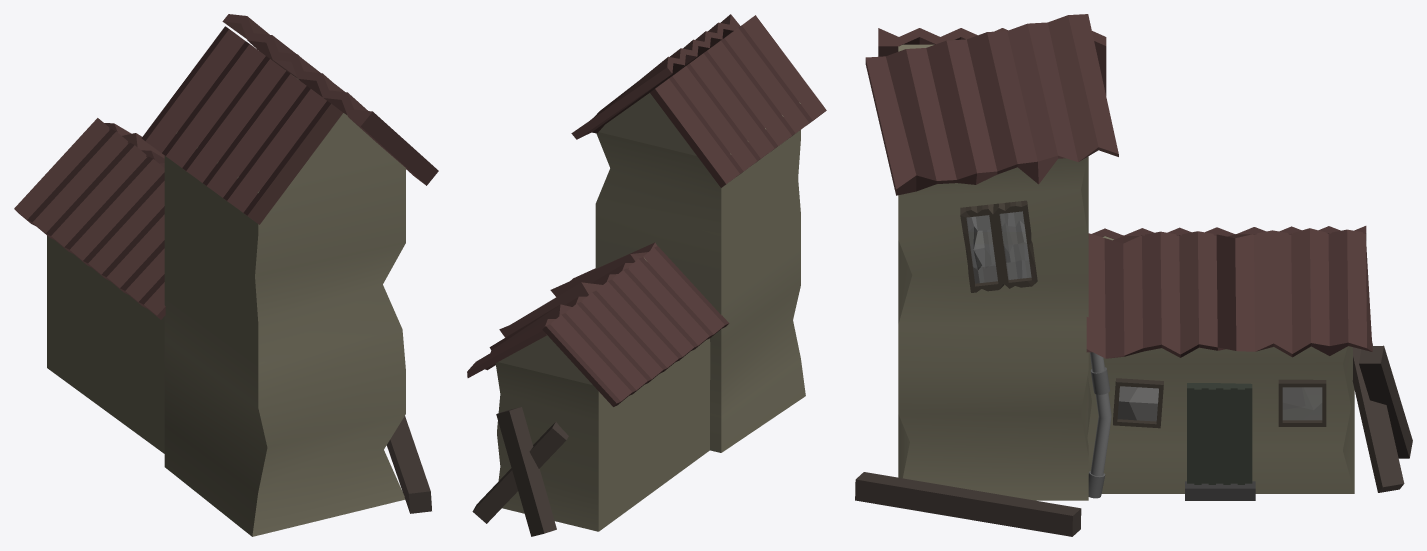
The model's file is HOUSE 1 DAMAGED red roof.fbx.
3 renders of one model, left to right at view 1: azimuth 30°, elevation 25°; view 2: azimuth 150°, elevation 25°; view 3: azimuth 270°, elevation 25°, orthographic. The views are drawn at different scales.
Visible parts, largest first — view 1: pCube1, pCube4, pCube6, pCube2, pCube3, pCube11, pCube5; view 2: pCube1, pCube2, pCube4, pCube6, pCube14, pCube5, pCube3; view 3: pCube1, pCube5, pCube3, pCube2, pCube11, pCube7, pCube10, pCube14, pCube8, pCube9, pCube4, pCylinder1 (+2 smaller).
Boxes of the visible parts, left/top/right/bottom form: pCube1: left=164, top=78, right=405, bottom=536; pCube4: left=141, top=26, right=342, bottom=224; pCube6: left=14, top=118, right=165, bottom=319; pCube2: left=47, top=235, right=164, bottom=453; pCube3: left=222, top=14, right=438, bottom=185; pCube11: left=386, top=416, right=431, bottom=513; pCube5: left=104, top=123, right=164, bottom=167; pCube1: left=595, top=93, right=805, bottom=452; pCube2: left=495, top=258, right=710, bottom=531; pCube4: left=650, top=15, right=826, bottom=187; pCube6: left=542, top=246, right=729, bottom=406; pCube14: left=472, top=406, right=568, bottom=536; pCube5: left=467, top=242, right=657, bottom=377; pCube3: left=571, top=14, right=740, bottom=139; pCube1: left=898, top=44, right=1088, bottom=500; pCube5: left=1086, top=228, right=1372, bottom=358; pCube3: left=865, top=14, right=1118, bottom=195; pCube2: left=1087, top=236, right=1354, bottom=493; pCube11: left=855, top=472, right=1081, bottom=536; pCube7: left=1187, top=383, right=1252, bottom=484; pCube10: left=960, top=200, right=1037, bottom=292; pCube14: left=1352, top=341, right=1412, bottom=492; pCube8: left=1113, top=378, right=1163, bottom=428; pCube9: left=1278, top=379, right=1326, bottom=426; pCube4: left=878, top=28, right=1106, bottom=95; pCylinder1: left=1089, top=352, right=1111, bottom=476.
Bounding box in the file's own units: 0.1072 × 0.1835 × 0.2061.
